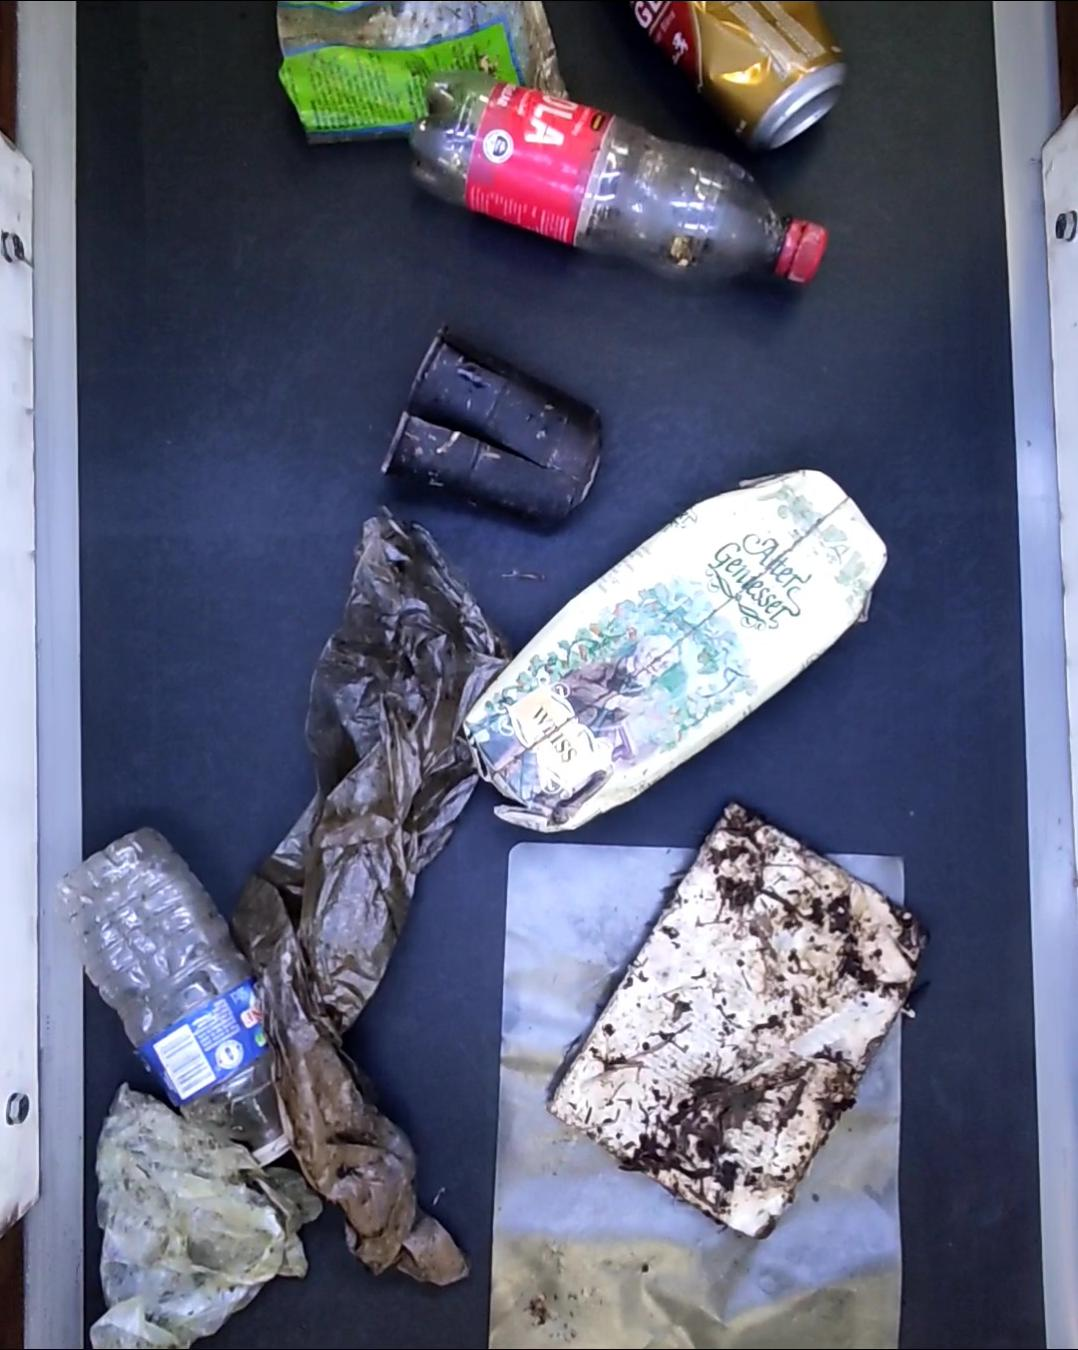Drankblikjes: (632, 0, 844, 139)
Drankflessen - 1-2 liter: (418, 76, 824, 286), (55, 822, 299, 1166)
Plastic folies of stukken daarvan 2.5- 50 cm: (488, 847, 904, 1349), (242, 516, 512, 1283), (91, 1087, 301, 1350)
Voedselverpakkingen: (264, 0, 564, 146)
